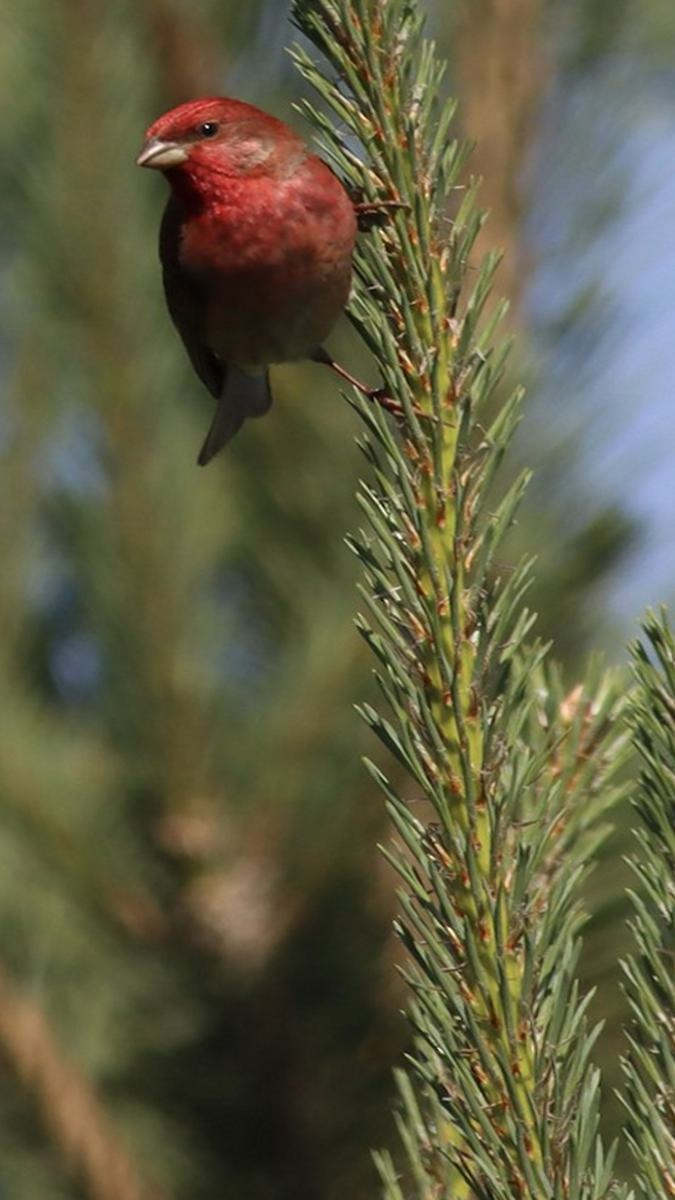rosefinch: (118, 104, 376, 418)
